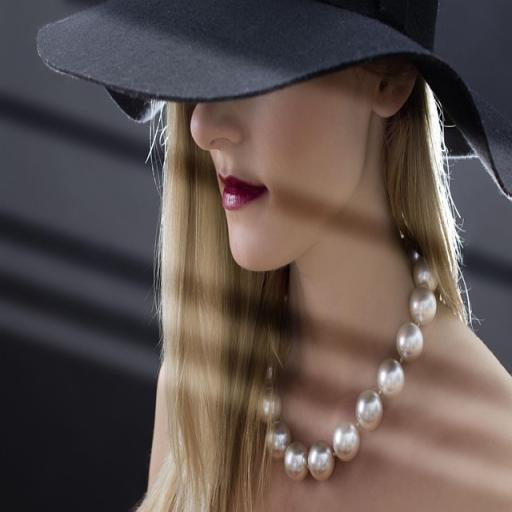lipstick: (219, 176, 266, 209)
